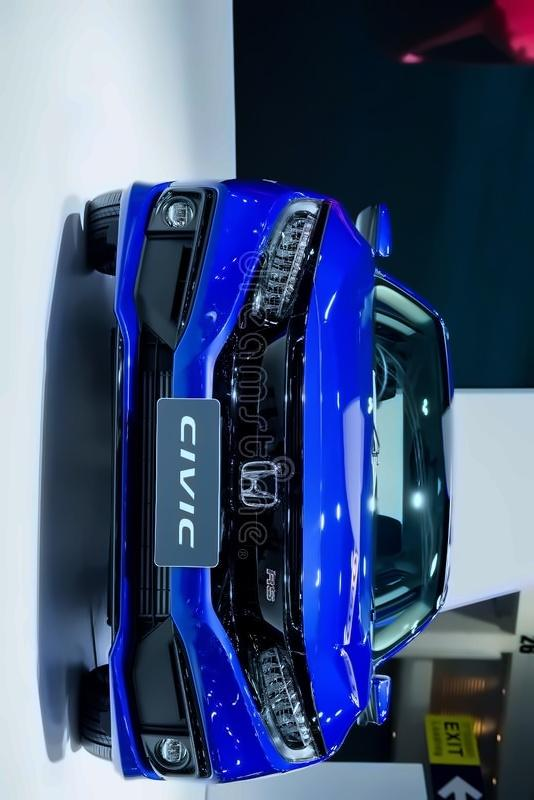Car hood: (297, 193, 382, 764)
Front bumper: (99, 176, 269, 790)
Headlight - -L-: (237, 629, 326, 770)
Headlight - -R-: (242, 189, 333, 343)
Side mirror - -L-: (350, 663, 398, 737)
Side mirror - -R-: (349, 190, 406, 271)
